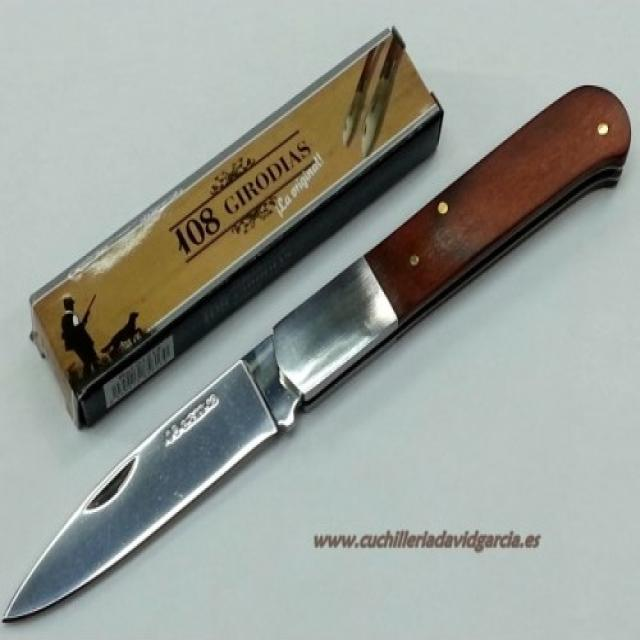knife: (4, 82, 636, 631)
